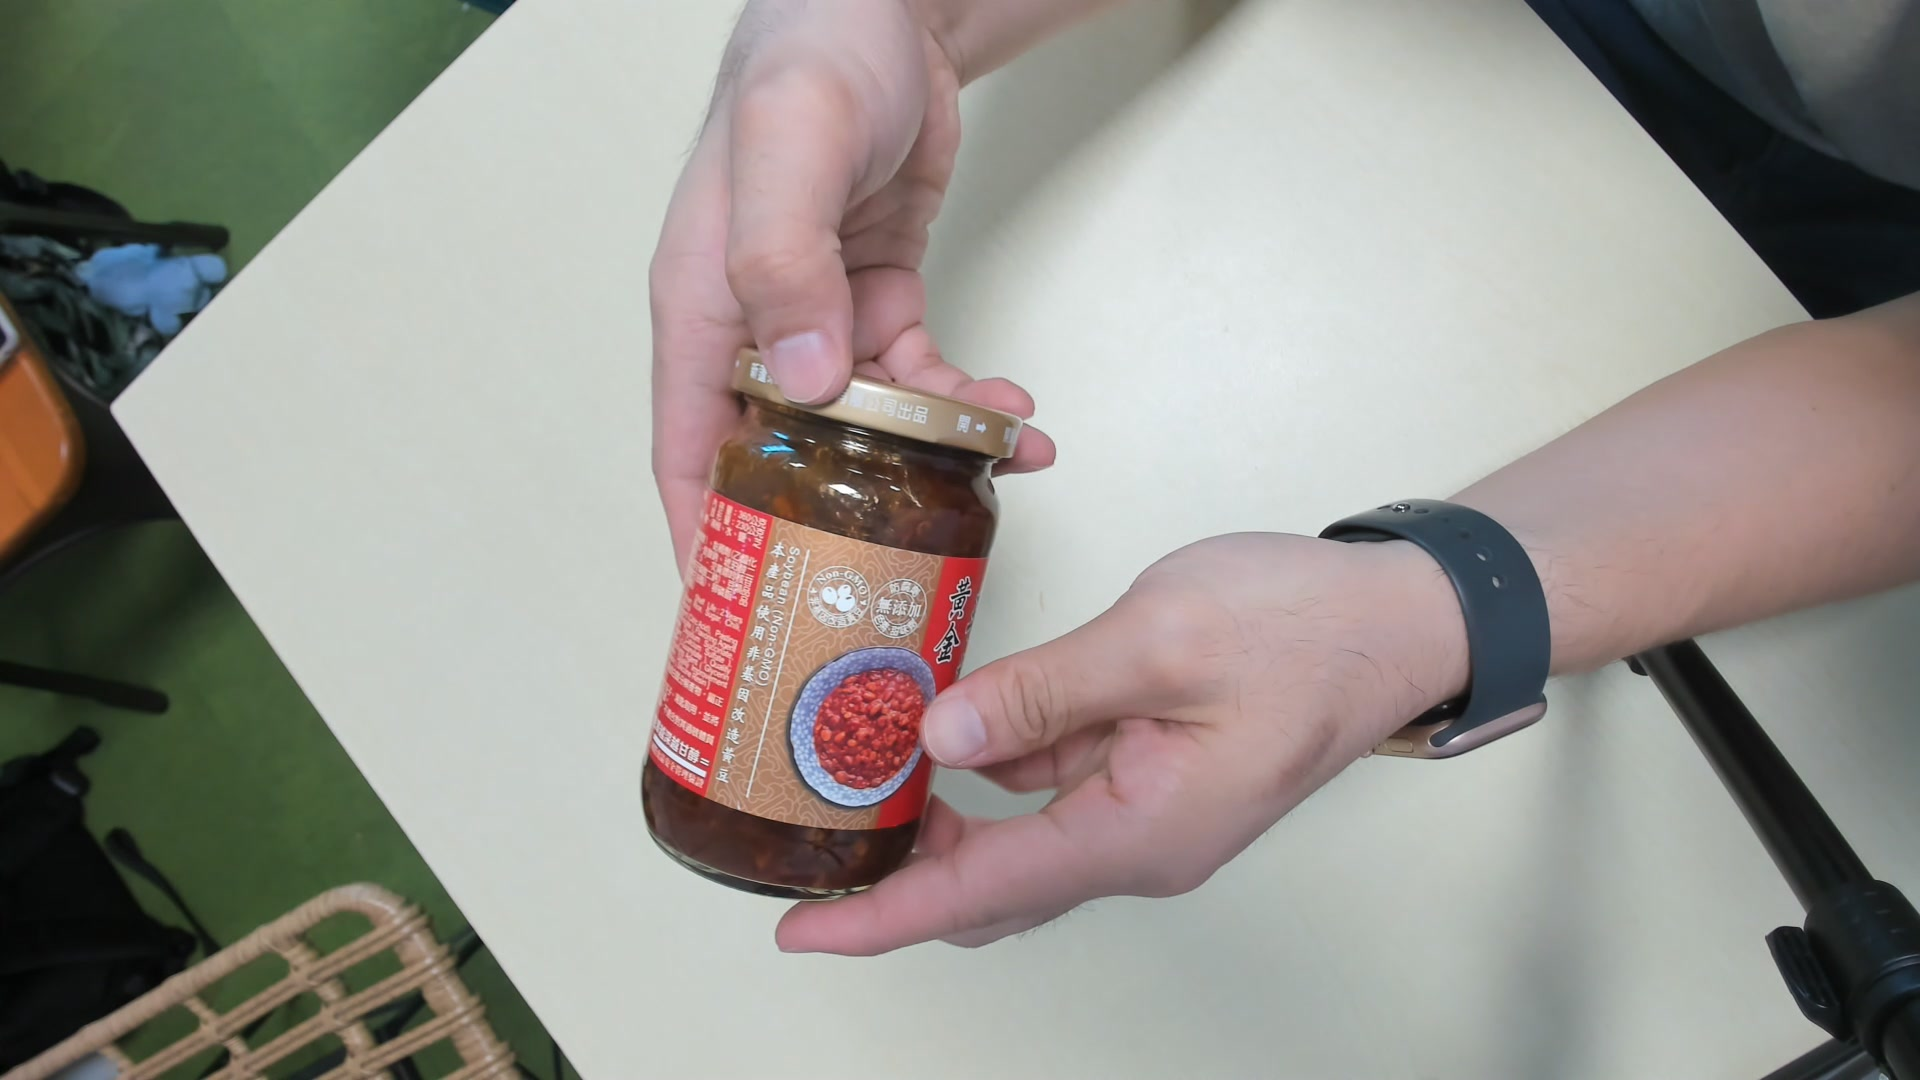OtherSauceDressing_300-399g_NonHalal_NonHealthy: (624, 355, 1025, 889)
